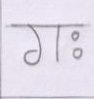anusvara: (72, 33, 79, 40)
